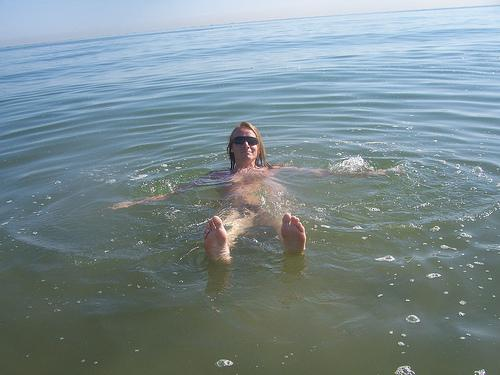swimmer: (205, 120, 305, 265)
